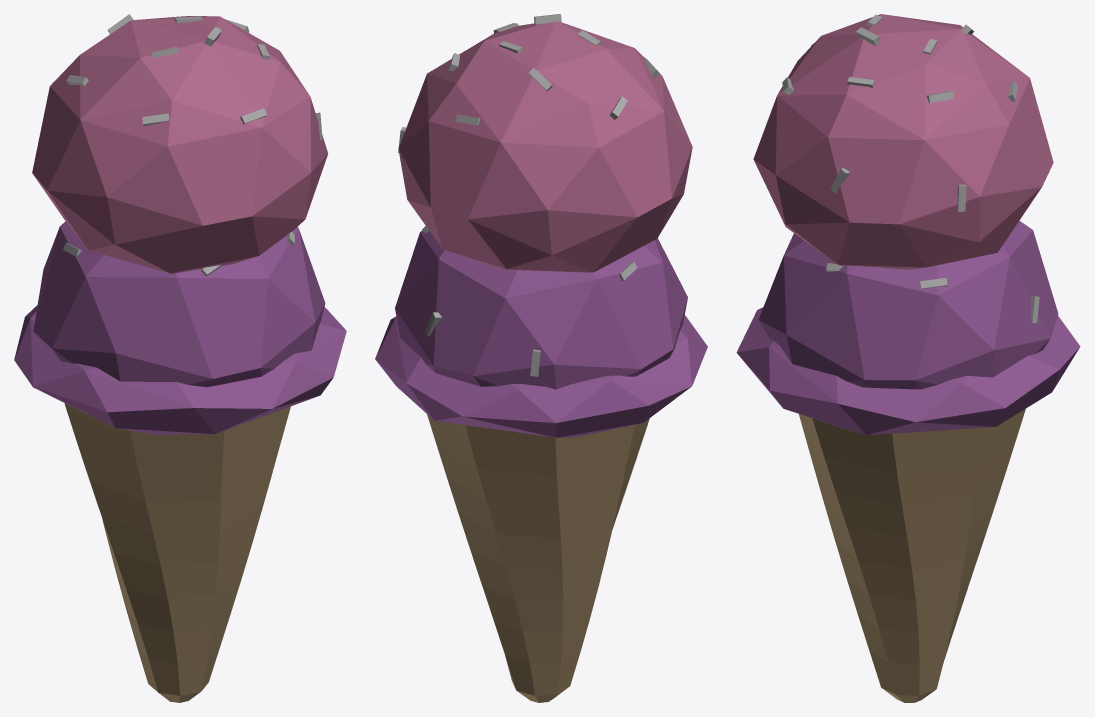
File: IceCream_2.glb
The picture shows the model from 3 angles, left to right: view 1: azimuth 30°, elevation 25°; view 2: azimuth 150°, elevation 25°; view 3: azimuth 270°, elevation 25°; orthographic projection.
Parts seen in each view (by area): view 1: PalePink, PalePink2, LightYellow, White; view 2: PalePink, PalePink2, LightYellow, White; view 3: PalePink, PalePink2, LightYellow, White.
Part boxes in pixels (<box>): PalePink: <box>32,16,328,273</box>; PalePink2: <box>14,221,346,434</box>; LightYellow: <box>64,403,290,702</box>; White: <box>63,14,322,276</box>; PalePink: <box>398,21,692,272</box>; PalePink2: <box>375,230,707,437</box>; LightYellow: <box>427,414,649,702</box>; White: <box>398,14,659,376</box>; PalePink: <box>753,14,1053,269</box>; PalePink2: <box>736,221,1080,435</box>; LightYellow: <box>799,408,1025,702</box>; White: <box>782,14,1039,323</box>.
Size of the model in its own units: 0.7296 by 1.57 by 0.7296.
